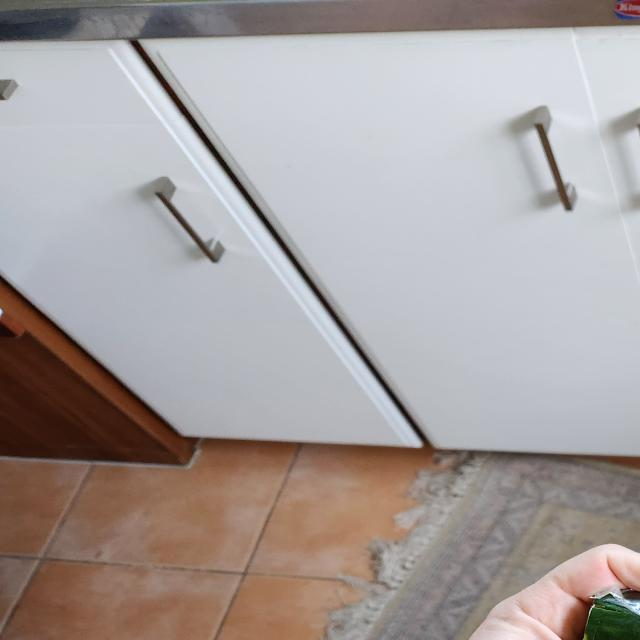cucumber: (584, 585, 640, 639)
